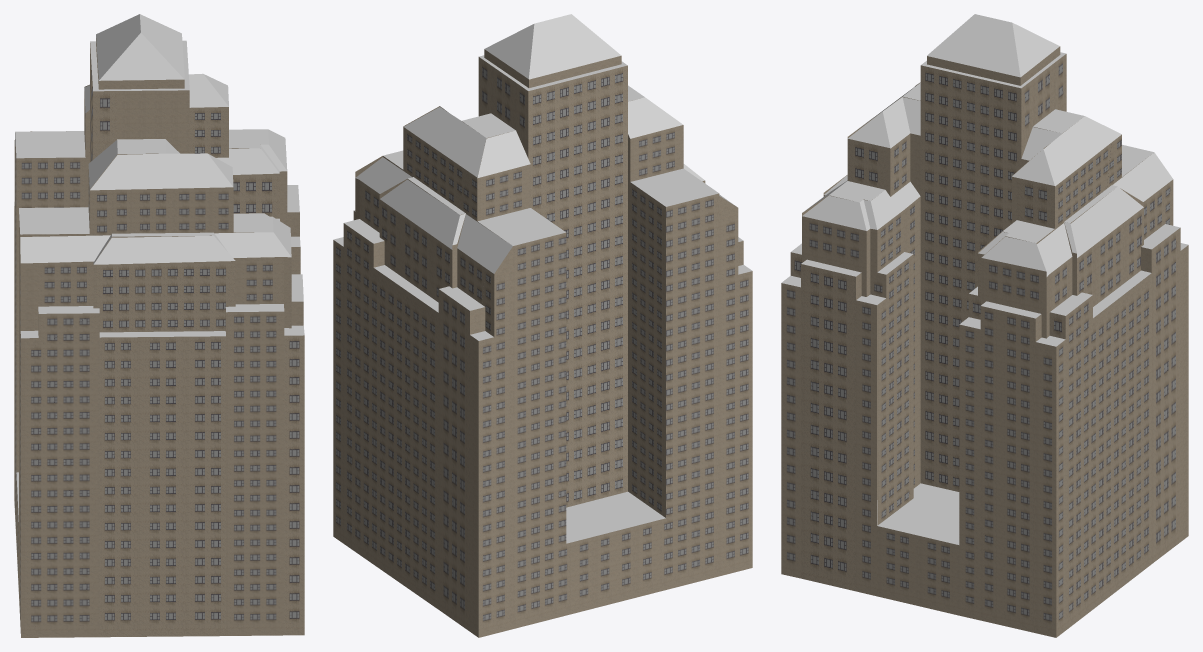
File: building-0-0-403.dae
3 renders of one model, left to right at view 1: azimuth 30°, elevation 25°; view 2: azimuth 150°, elevation 25°; view 3: azimuth 270°, elevation 25°, orthographic. The views are drawn at different scales.
Visible parts, largest first — view 1: geopipeinodeJuBCa8BV (×3); view 2: geopipeinodeJuBCa8BV (×3); view 3: geopipeinodeJuBCa8BV (×3).
Boxes of the visible parts, <box> form: geopipeinodeJuBCa8BV (×3): <box>14,14,304,637</box>; geopipeinodeJuBCa8BV (×3): <box>333,14,752,637</box>; geopipeinodeJuBCa8BV (×3): <box>781,14,1188,637</box>.
Bounding box in the file's own units: 75.79 × 78.65 × 113.
